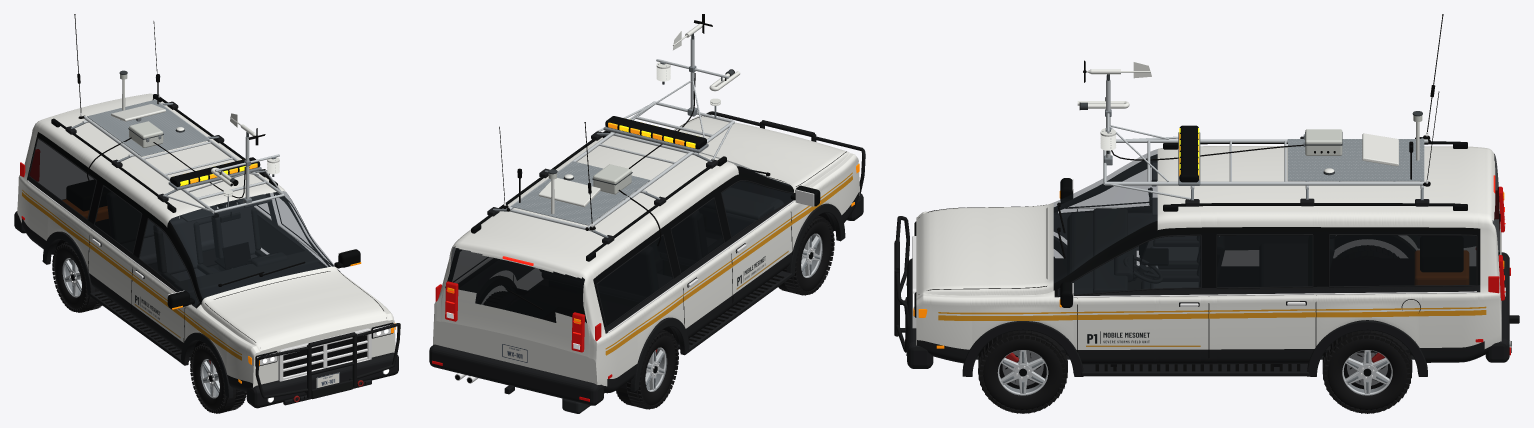
The model's file is PROBE_1_SUV_LOD0.glb.
The picture shows the model from 3 angles, left to right: view 1: azimuth 30°, elevation 25°; view 2: azimuth 150°, elevation 25°; view 3: azimuth 270°, elevation 25°; orthographic projection. The views are drawn at different scales.
Parts seen in each view (by area): view 1: Body_Paint_Primary, Glass_Glass_Front, Exterior_Trim_Trim_Black, Interior_Interior_Fabric, Glass_Glass_Privacy, Interior_Interior_Leather, Roof_Rack_Aluminum_DiamondPlate, Body_Trim_Black, Roof_Rack_Aluminum, Exterior_Trim_Steel_PowderBlack, Exterior_Trim_Chrome, Body_Trim_GlossBlack (+19 smaller); view 2: Body_Paint_Primary, Glass_Glass_Privacy, Exterior_Trim_Trim_Black, Interior_Interior_Fabric, Roof_Rack_Aluminum, Body_Trim_Black, Roof_Rack_Aluminum_DiamondPlate, Body_Trim_GlossBlack, Exterior_Trim_Underbody, Glass_Glass_Front, WheelSpin_RR_Tire_Rubber, WheelSpin_FR_Tire_Rubber (+19 smaller); view 3: Body_Paint_Primary, Glass_Glass_Privacy, Glass_Glass_Front, Exterior_Trim_Trim_Black, Body_Trim_Black, Body_Trim_GlossBlack, WheelSpin_FL_Tire_Rubber, WheelSpin_RL_Tire_Rubber, Decals_Livery_Accent, Roof_Rack_Aluminum_DiamondPlate, Interior_Interior_Fabric, Roof_Rack_Aluminum (+22 smaller).
Boxes of the visible parts, x1,y1,x2,y2 form: Body_Paint_Primary: [17, 93, 395, 387]; Glass_Glass_Front: [140, 191, 334, 305]; Exterior_Trim_Trim_Black: [14, 137, 398, 408]; Interior_Interior_Fabric: [107, 192, 257, 286]; Glass_Glass_Privacy: [29, 139, 141, 252]; Interior_Interior_Leather: [154, 208, 319, 293]; Roof_Rack_Aluminum_DiamondPlate: [87, 100, 209, 156]; Body_Trim_Black: [20, 175, 252, 391]; Roof_Rack_Aluminum: [82, 99, 284, 213]; Exterior_Trim_Steel_PowderBlack: [255, 323, 400, 399]; Exterior_Trim_Chrome: [27, 180, 392, 402]; Body_Trim_GlossBlack: [28, 132, 307, 307]; Body_Paint_Primary: [433, 116, 859, 386]; Glass_Glass_Privacy: [445, 199, 723, 325]; Exterior_Trim_Trim_Black: [429, 179, 863, 405]; Interior_Interior_Fabric: [540, 211, 716, 301]; Roof_Rack_Aluminum: [506, 39, 734, 231]; Body_Trim_Black: [511, 192, 859, 393]; Roof_Rack_Aluminum_DiamondPlate: [511, 161, 649, 225]; Body_Trim_GlossBlack: [593, 166, 793, 327]; Exterior_Trim_Underbody: [505, 181, 791, 335]; Glass_Glass_Front: [700, 152, 791, 236]; WheelSpin_RR_Tire_Rubber: [616, 329, 678, 409]; WheelSpin_FR_Tire_Rubber: [778, 215, 834, 295]; Body_Paint_Primary: [916, 146, 1501, 349]; Glass_Glass_Privacy: [1217, 153, 1499, 287]; Glass_Glass_Front: [1054, 149, 1200, 295]; Exterior_Trim_Trim_Black: [905, 201, 1509, 376]; Body_Trim_Black: [917, 285, 1500, 364]; Body_Trim_GlossBlack: [1053, 221, 1480, 296]; WheelSpin_FL_Tire_Rubber: [978, 330, 1067, 413]; WheelSpin_RL_Tire_Rubber: [1322, 330, 1412, 413]; Decals_Livery_Accent: [938, 306, 1486, 320]; Roof_Rack_Aluminum_DiamondPlate: [1287, 139, 1424, 181]; Interior_Interior_Fabric: [1150, 236, 1334, 288]; Roof_Rack_Aluminum: [1103, 80, 1428, 199].
Bounding box in the file's own units: 2.5 × 3.36 × 5.72.
41 materials, 4 textured.
